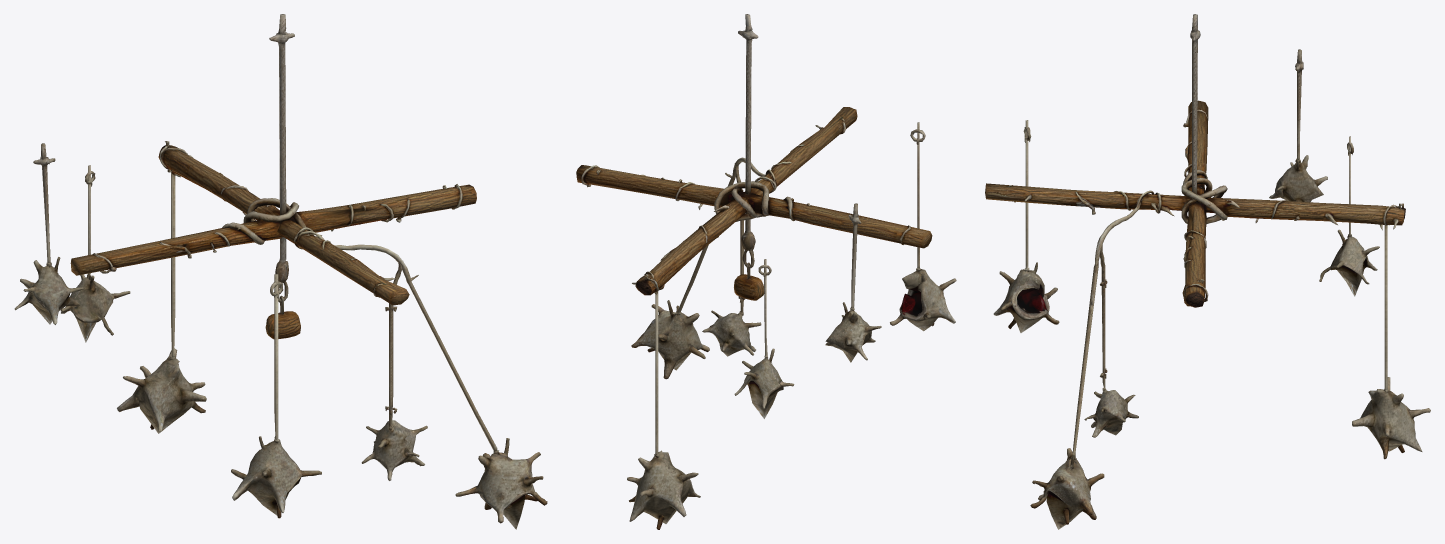
File: prop-hanging-mobile-v01.glb
3 renders of one model, left to right at view 1: azimuth 30°, elevation 25°; view 2: azimuth 150°, elevation 25°; view 3: azimuth 270°, elevation 25°, orthographic. The views are drawn at different scales.
Visible parts, largest first — view 1: tripo_node_38de422d-06d2-47b5-9354-fc17e33b7680; view 2: tripo_node_38de422d-06d2-47b5-9354-fc17e33b7680; view 3: tripo_node_38de422d-06d2-47b5-9354-fc17e33b7680.
Part boxes in pixels (box(x1,y1,x2,y2)): tripo_node_38de422d-06d2-47b5-9354-fc17e33b7680: box(14, 14, 547, 529); tripo_node_38de422d-06d2-47b5-9354-fc17e33b7680: box(576, 14, 956, 529); tripo_node_38de422d-06d2-47b5-9354-fc17e33b7680: box(985, 14, 1430, 529).
Bounding box in the file's own units: 0.6837 × 0.822 × 0.7448.
Materials: 1 (1 with a texture image).
